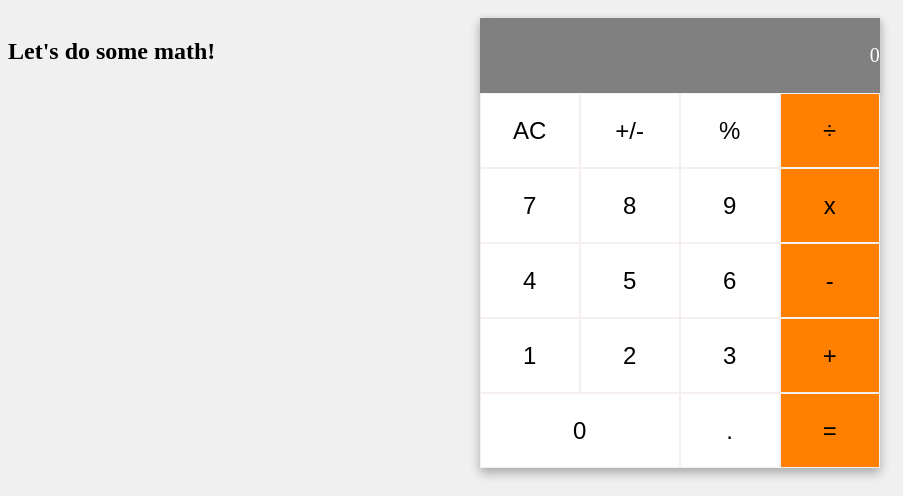
Test: Calculator component › renders calculator with 1
Click the button "1": click(530, 356) [480,318,580,393]
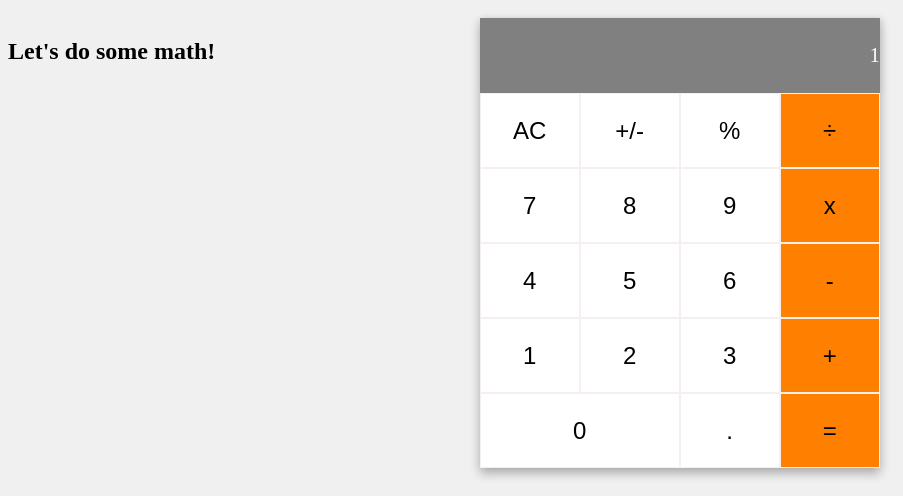
Now the text with test id "display" reads "1", box [870,44,880,66]
